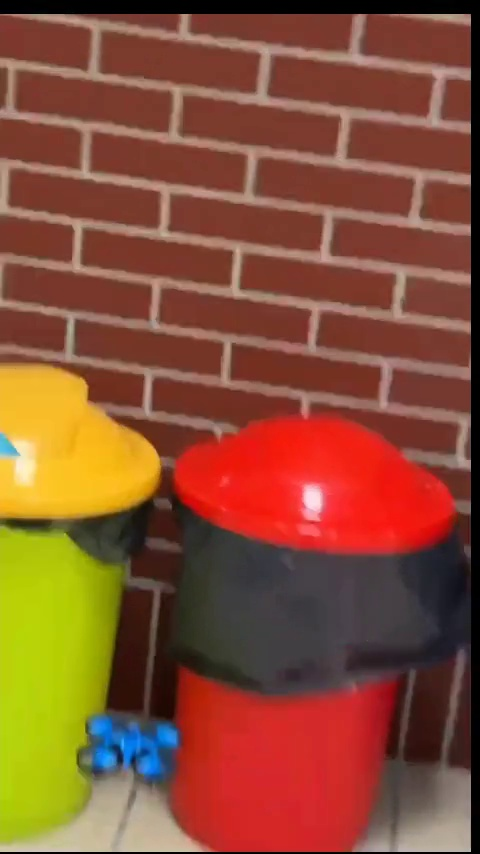drone: (77, 715, 187, 780)
